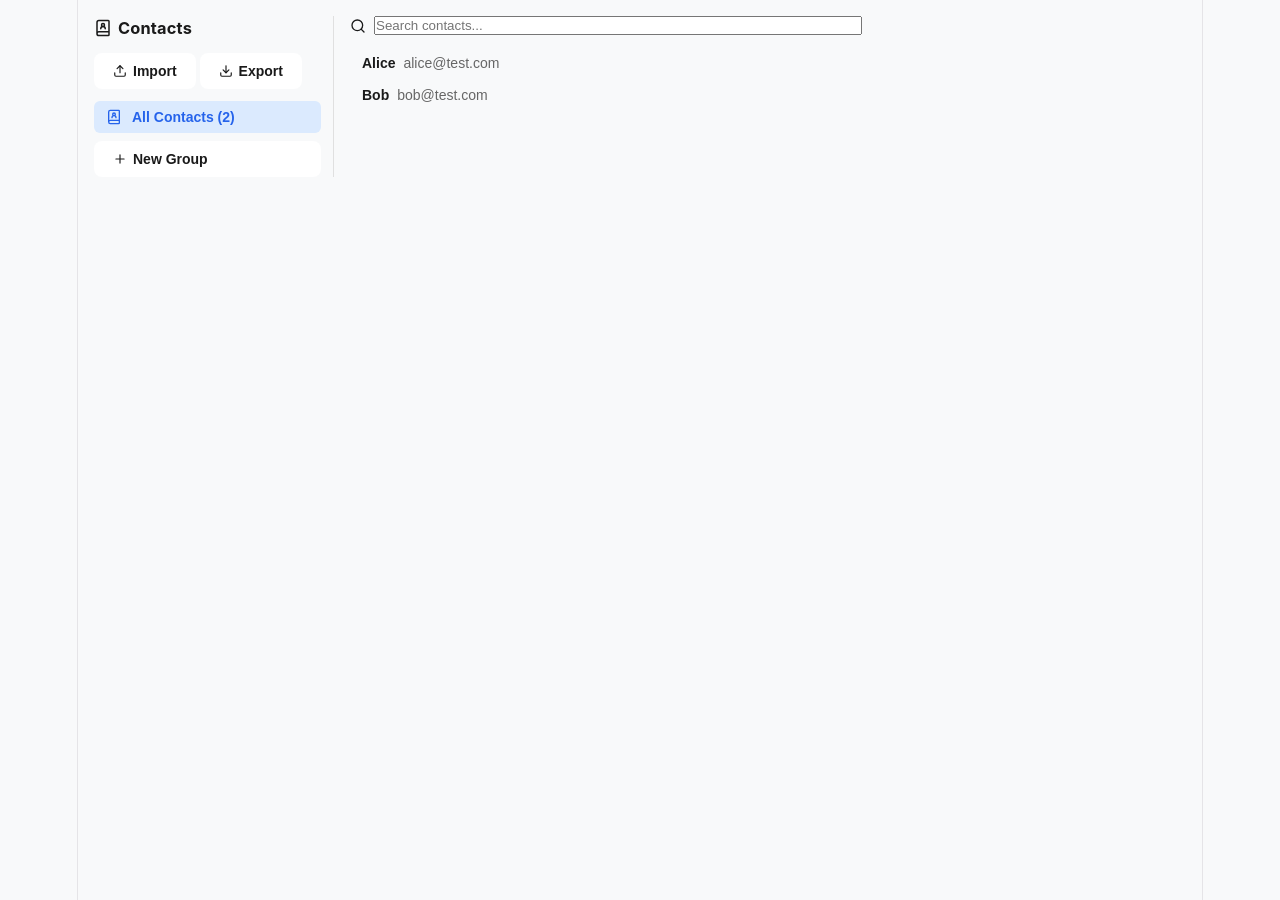
Test: ContactsApp › filters contacts with search input
The width and height of the screenshot is (1280, 900).
Expected: the text "Alice" is shown, x1=362 y1=55 x2=396 y2=71
In the field with placeholder "Search contacts...": point(618, 26) x1=374 y1=16 x2=862 y2=35, type "bob"
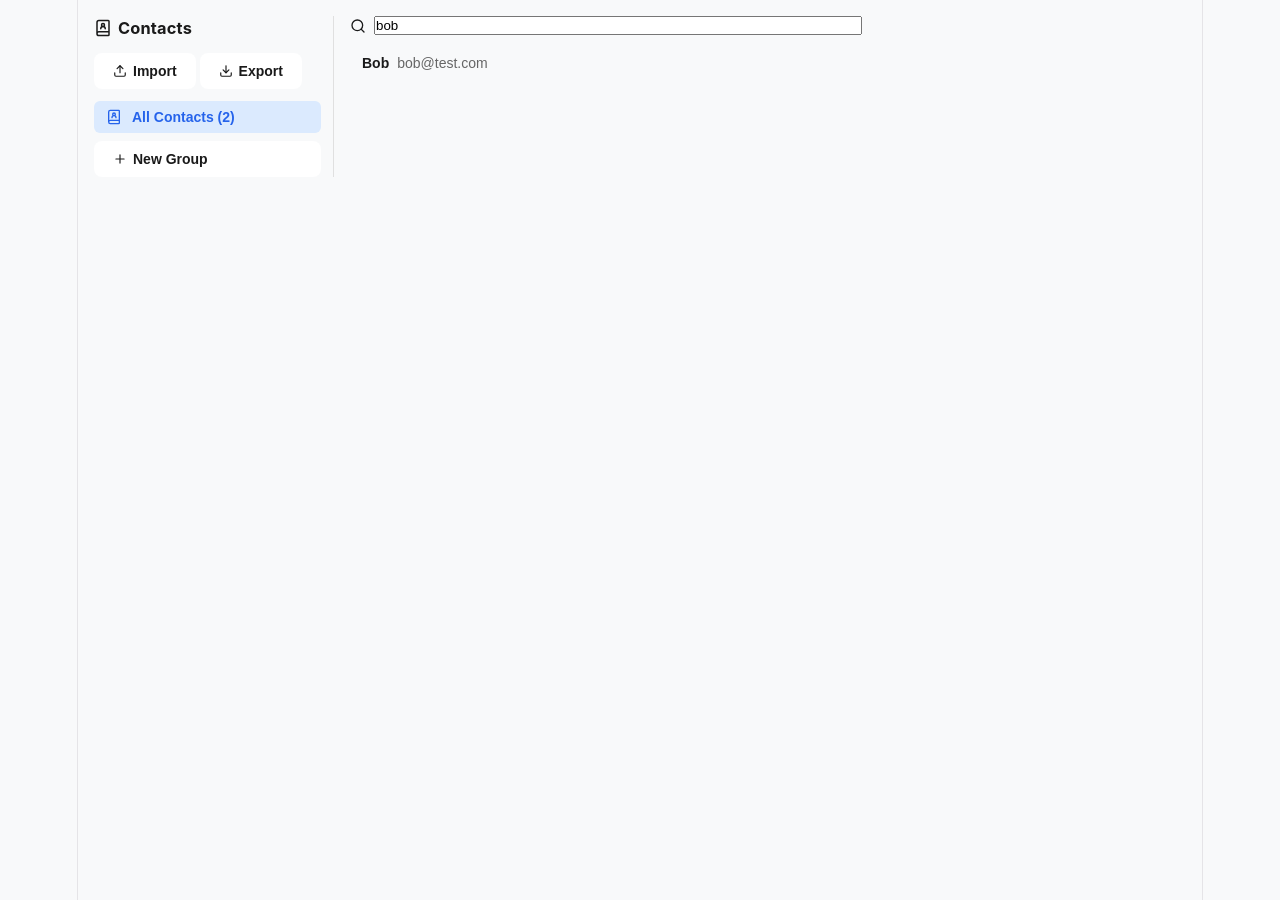
Expected: the text "Bob" is shown, x1=362 y1=55 x2=389 y2=71
Expected: the button "Alice" is gone
